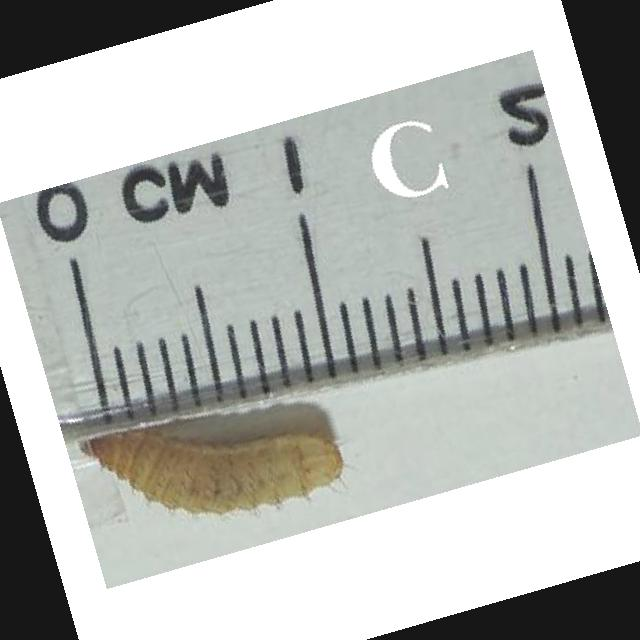Maggot: (85, 420, 349, 515)
